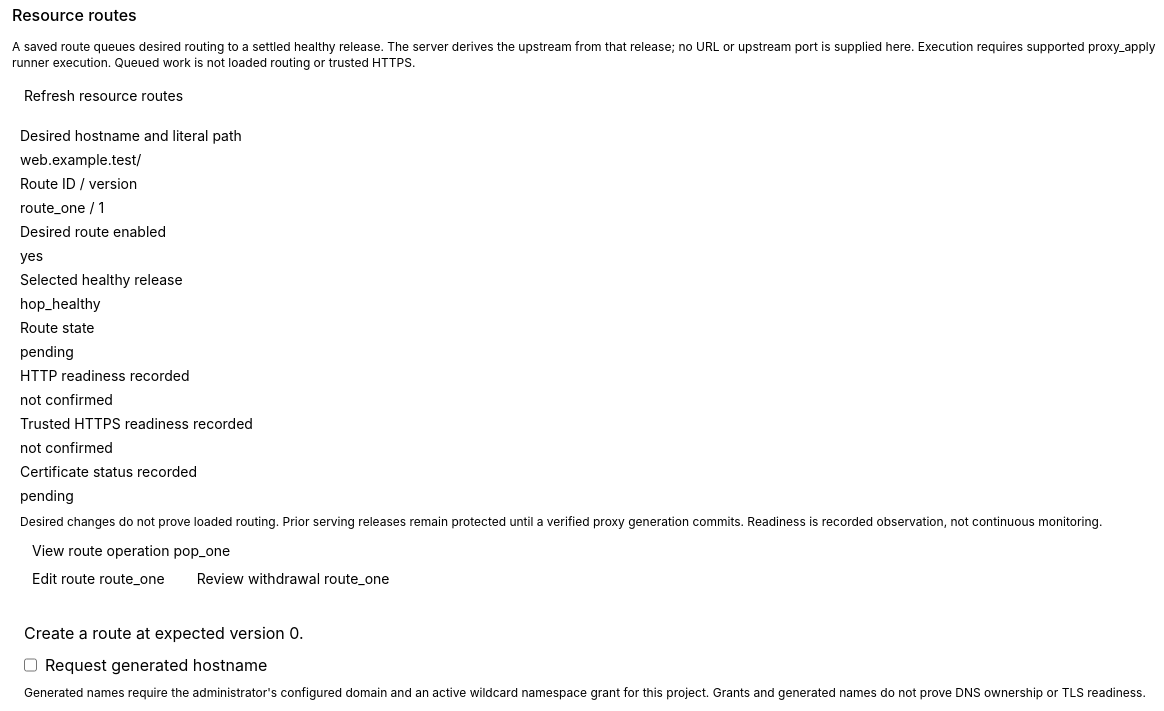
Test: withdrawal requires named confirmation and exact route version/key
Click the button "Review withdrawal route_one". click: coordinates (293, 579)
box: [185,569,402,589]
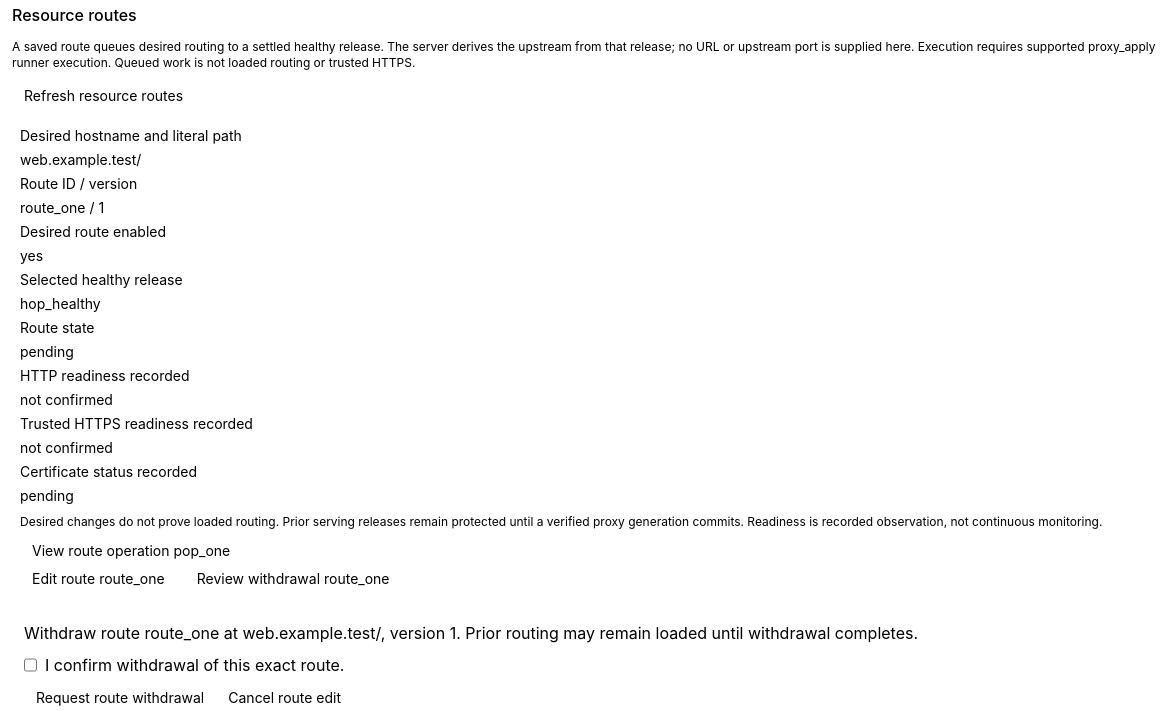
Expected: the button "Request route withdrawal" is disabled, [24,688,216,708]
Click the checkbox labelled "I confirm withdrawal of this exact route.". click: coordinates (30, 665)
box: [24,653,37,677]
(page scrolled)
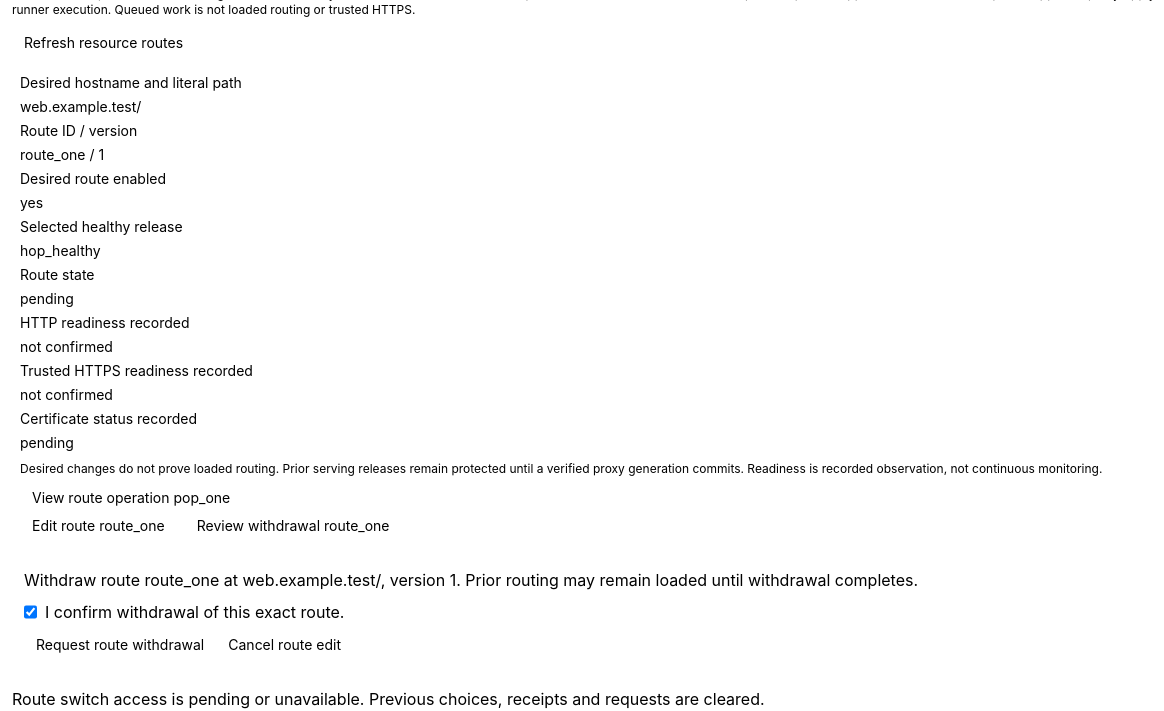
Submit the form, box [24,570,918,655]
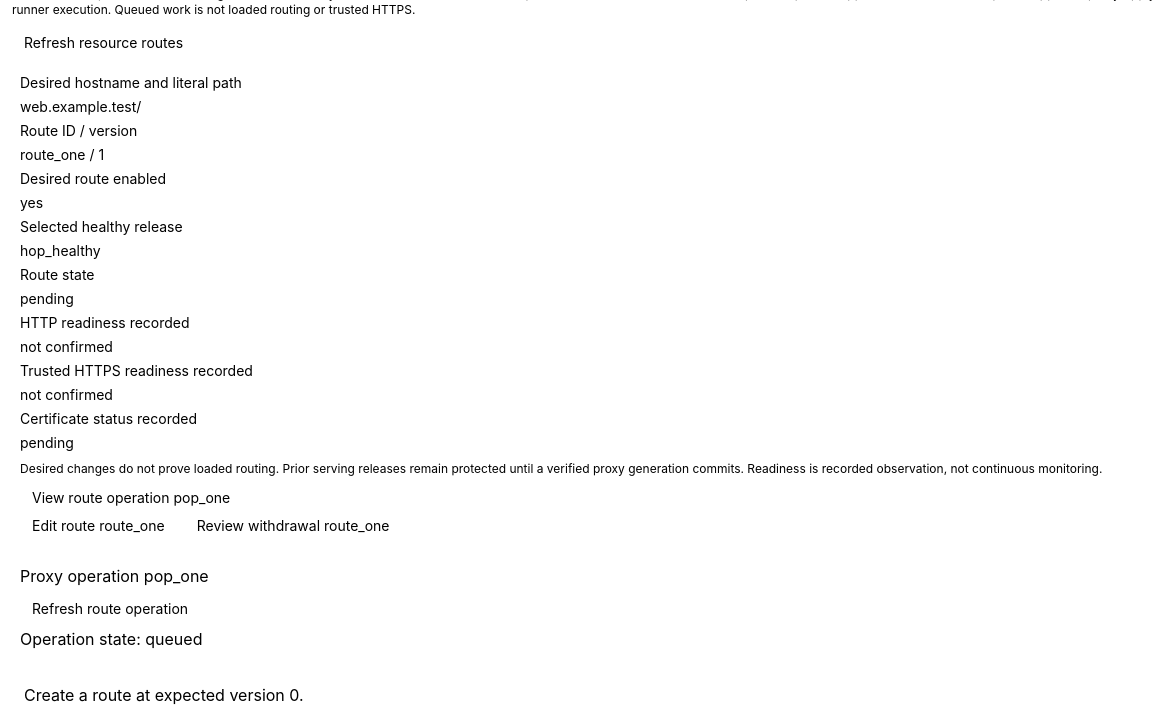
Result: the element named "Route operation status" is shown at [20,566,209,649]
